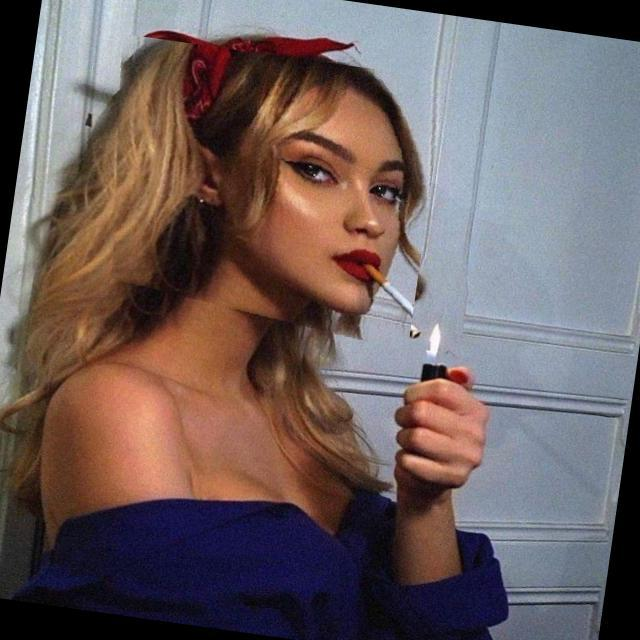cigarette: (334, 249, 448, 351)
